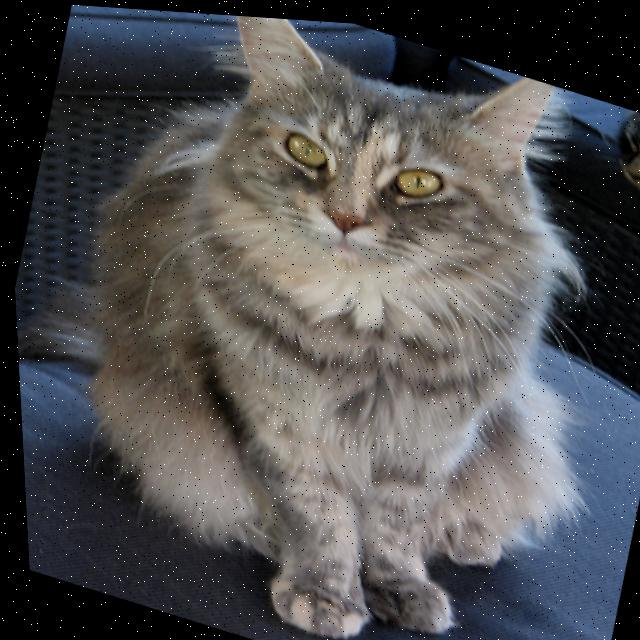Maine Coon: (2, 0, 640, 640)
